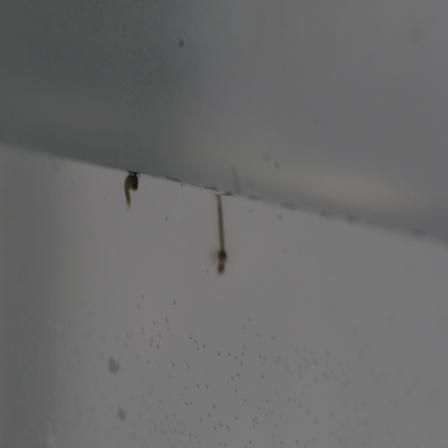Jentik-Nyamuk: (210, 189, 234, 279), (120, 166, 144, 208)
